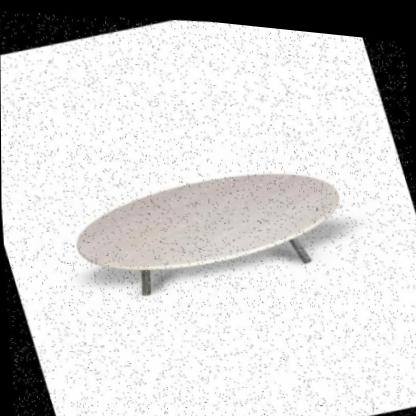Table: (34, 102, 388, 354)
